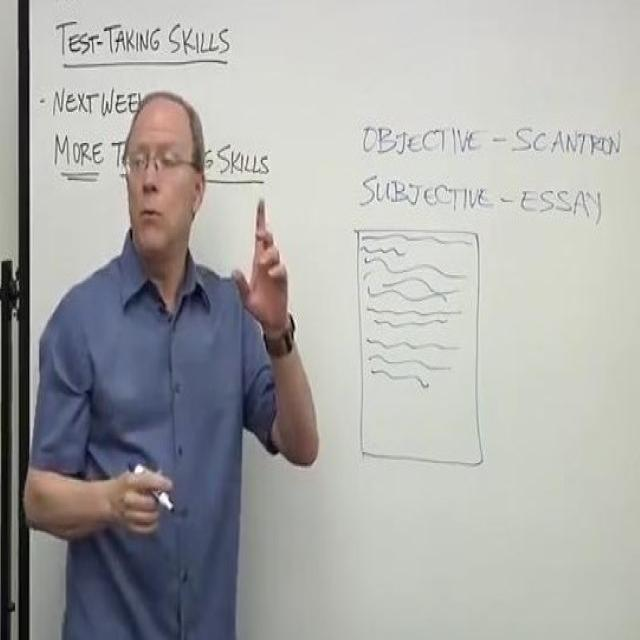Instructor: (72, 81, 279, 620)
White-board: (31, 0, 640, 640)
